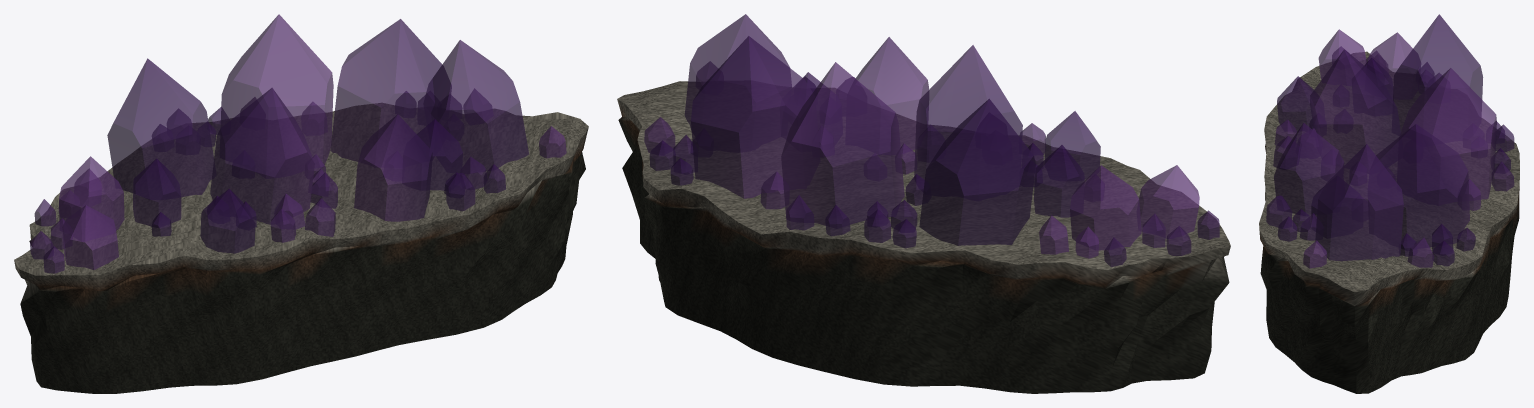
The model's file is specimen.glb.
The picture shows the model from 3 angles, left to right: view 1: azimuth 30°, elevation 25°; view 2: azimuth 150°, elevation 25°; view 3: azimuth 270°, elevation 25°; orthographic projection. The views are drawn at different scales.
Visible parts, largest first — view 1: layered-host, amethyst-growth; view 2: layered-host, amethyst-growth; view 3: layered-host, amethyst-growth.
Part boxes in pixels (x1,y1,x2,y2): layered-host: (14,103,588,393); amethyst-growth: (30,14,566,273); layered-host: (617,81,1230,393); amethyst-growth: (644,14,1219,266); layered-host: (1259,51,1519,393); amethyst-growth: (1266,14,1514,268).
Bounding box in the file's own units: 0.0462 × 0.0203 × 0.021.
2 materials, 1 textured.
